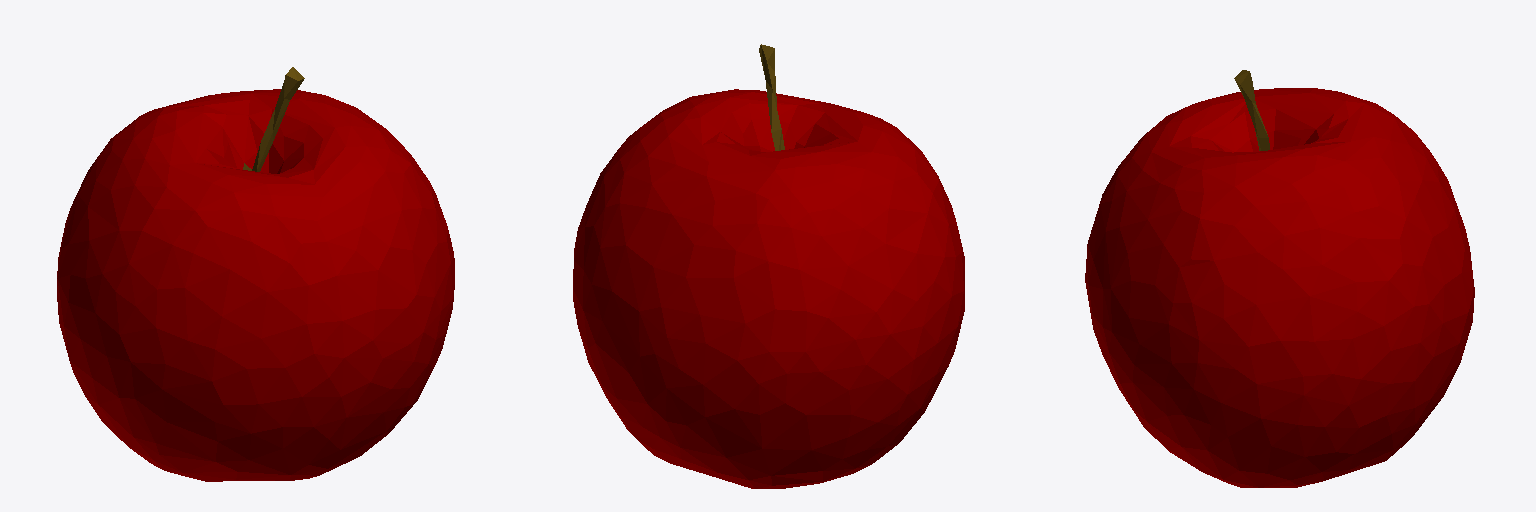
The model's file is Apple.obj.
3 renders of one model, left to right at view 1: azimuth 30°, elevation 25°; view 2: azimuth 150°, elevation 25°; view 3: azimuth 270°, elevation 25°, orthographic.
Visible parts, largest first — view 1: Apple.1; view 2: Apple.1; view 3: Apple.1.
Boxes of the visible parts, x1=… form: Apple.1: x1=57, y1=67, x2=454, y2=481; Apple.1: x1=573, y1=44, x2=964, y2=488; Apple.1: x1=1085, y1=70, x2=1474, y2=487.
Size of the model in its own units: 155 by 167 by 151.